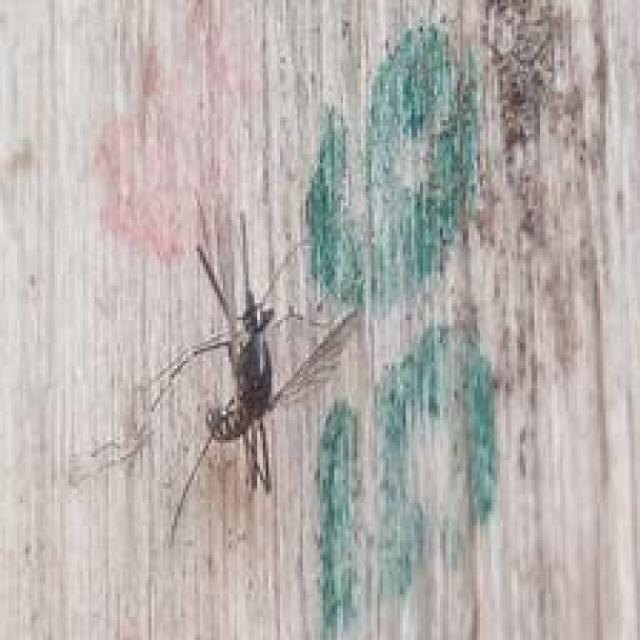Aedes albopictus: (71, 210, 363, 547)
